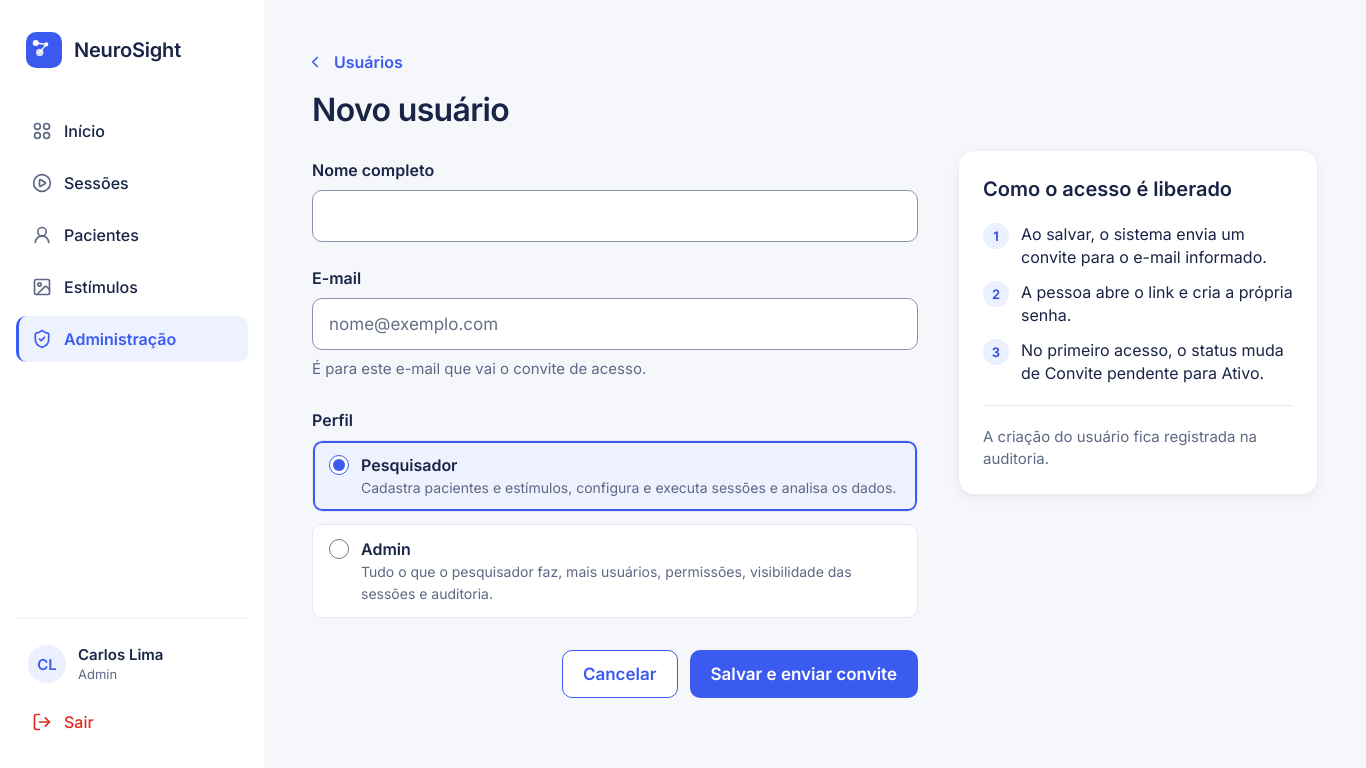
Test: W20 Novo e Editar usuário › e-mail repetido aparece no campo
Type "Ana" into the field labelled "Nome completo" at (615, 216), box top-left (312, 190), bottom-right (918, 242)
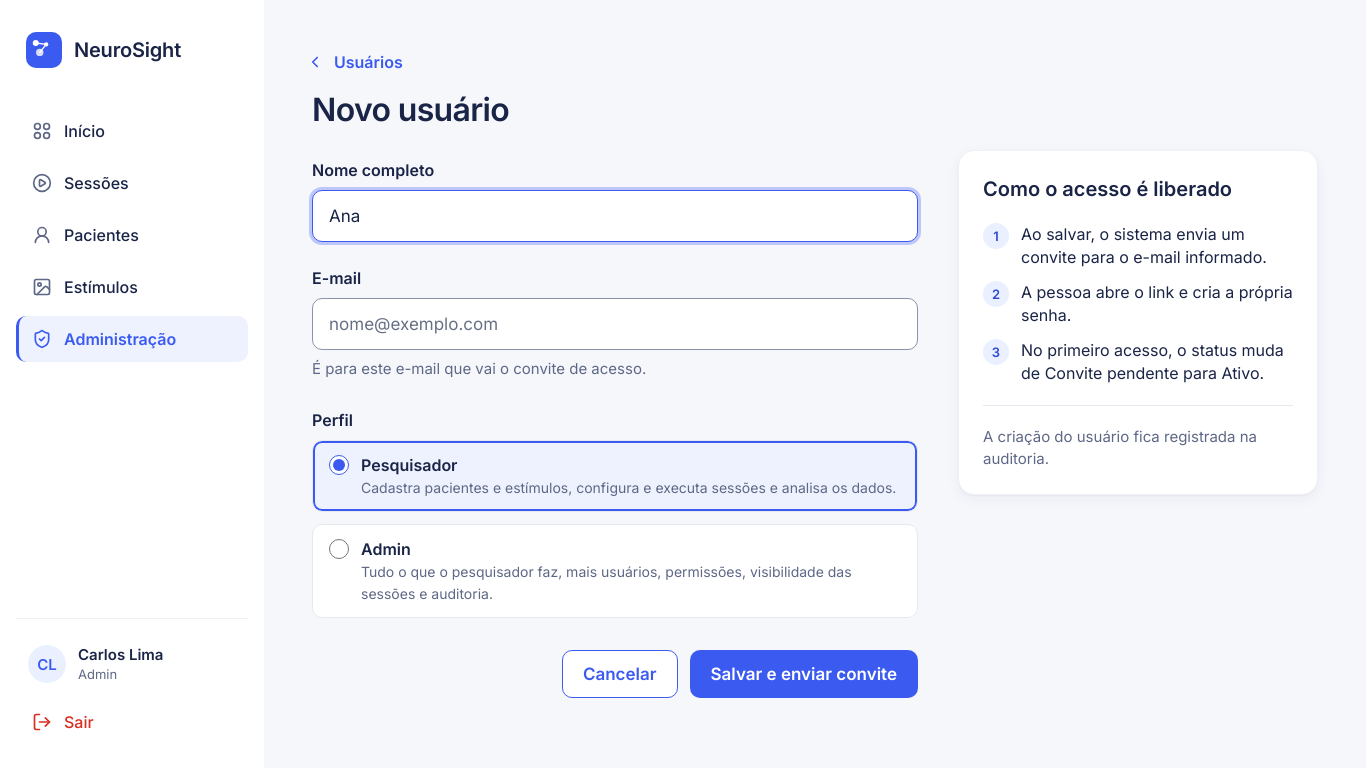
Type "ana.souza@exemplo.com" into the field labelled "E-mail" at (615, 324), box top-left (312, 298), bottom-right (918, 350)
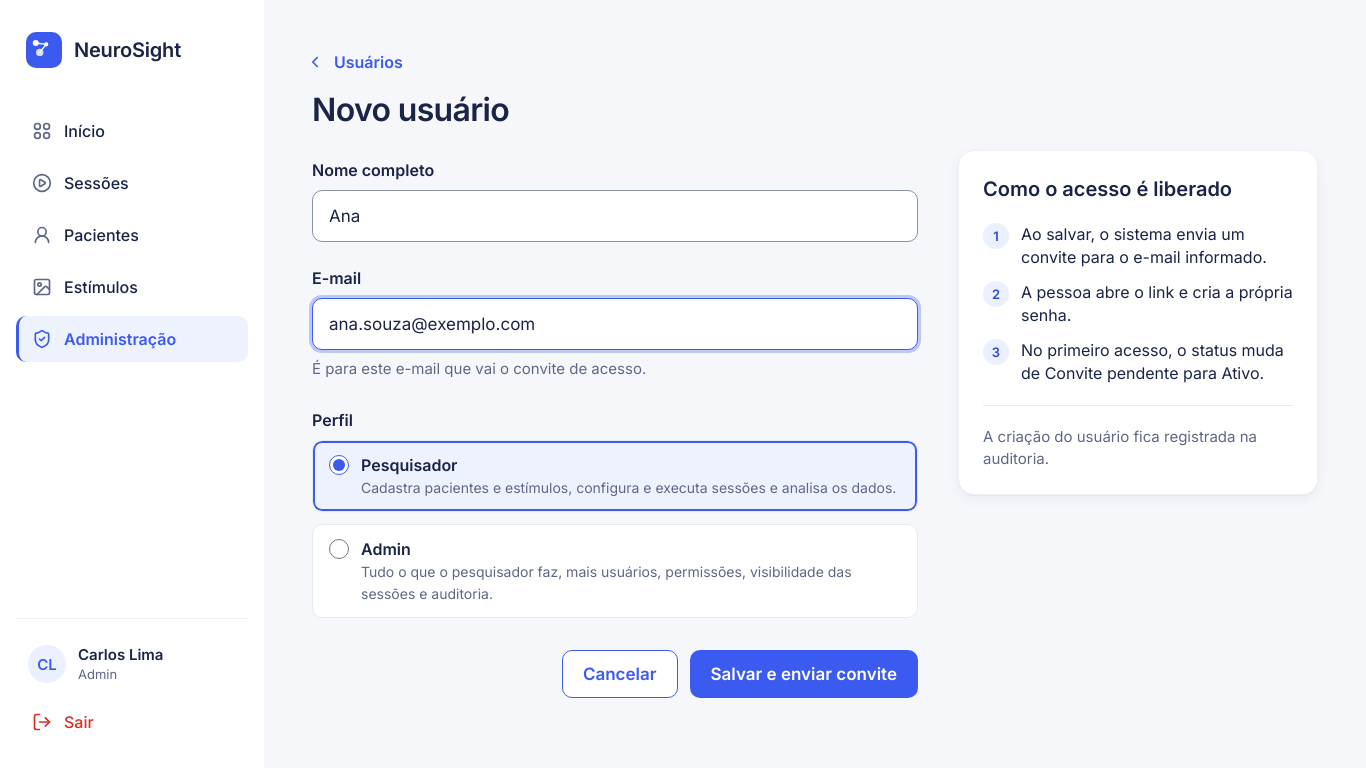
Click the button "Salvar e enviar convite" at (804, 674), box top-left (690, 650), bottom-right (918, 698)
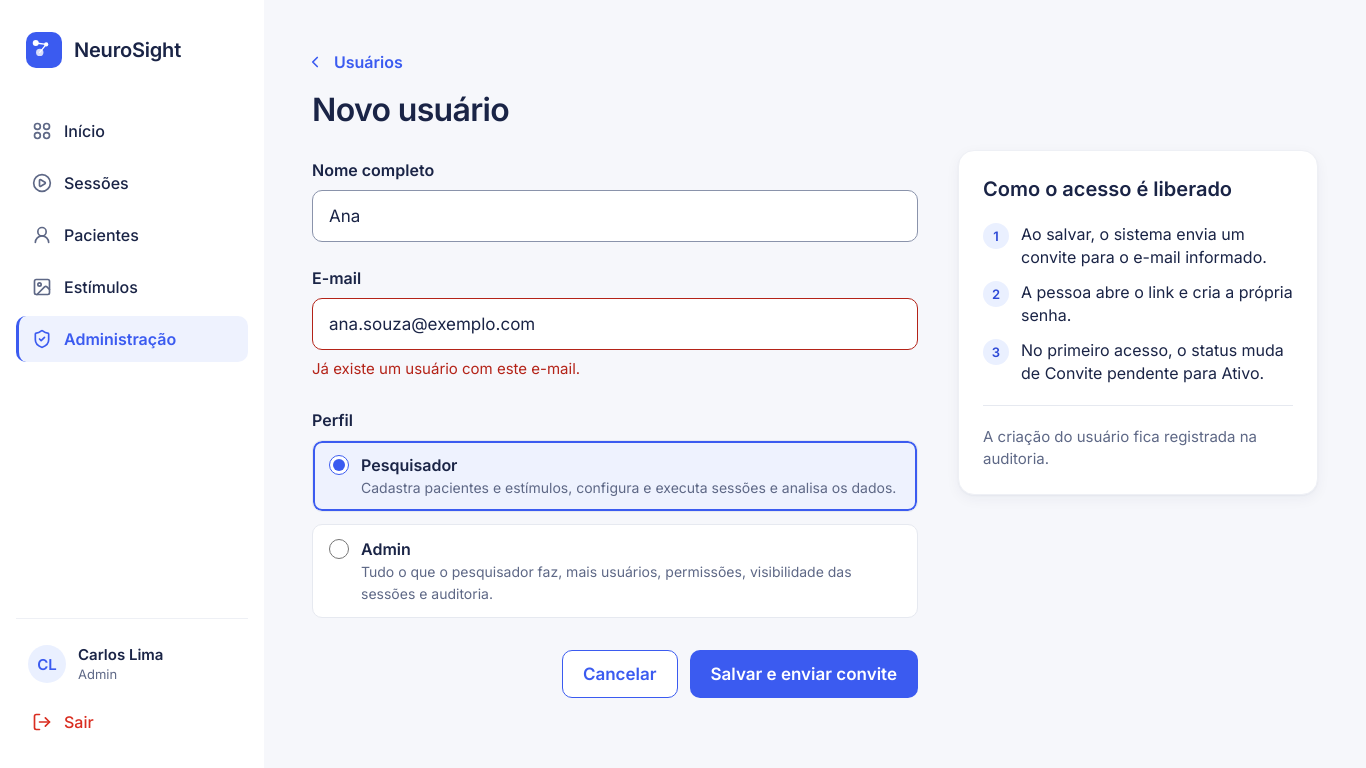
Expected: the text "Já existe um usuário com este e-mail." is shown, top-left (312, 359), bottom-right (580, 378)
